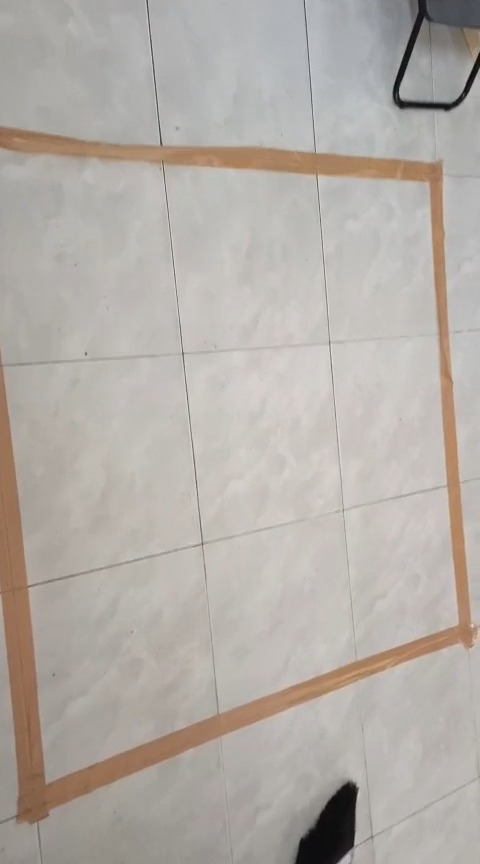floor marking: (0, 127, 478, 822)
